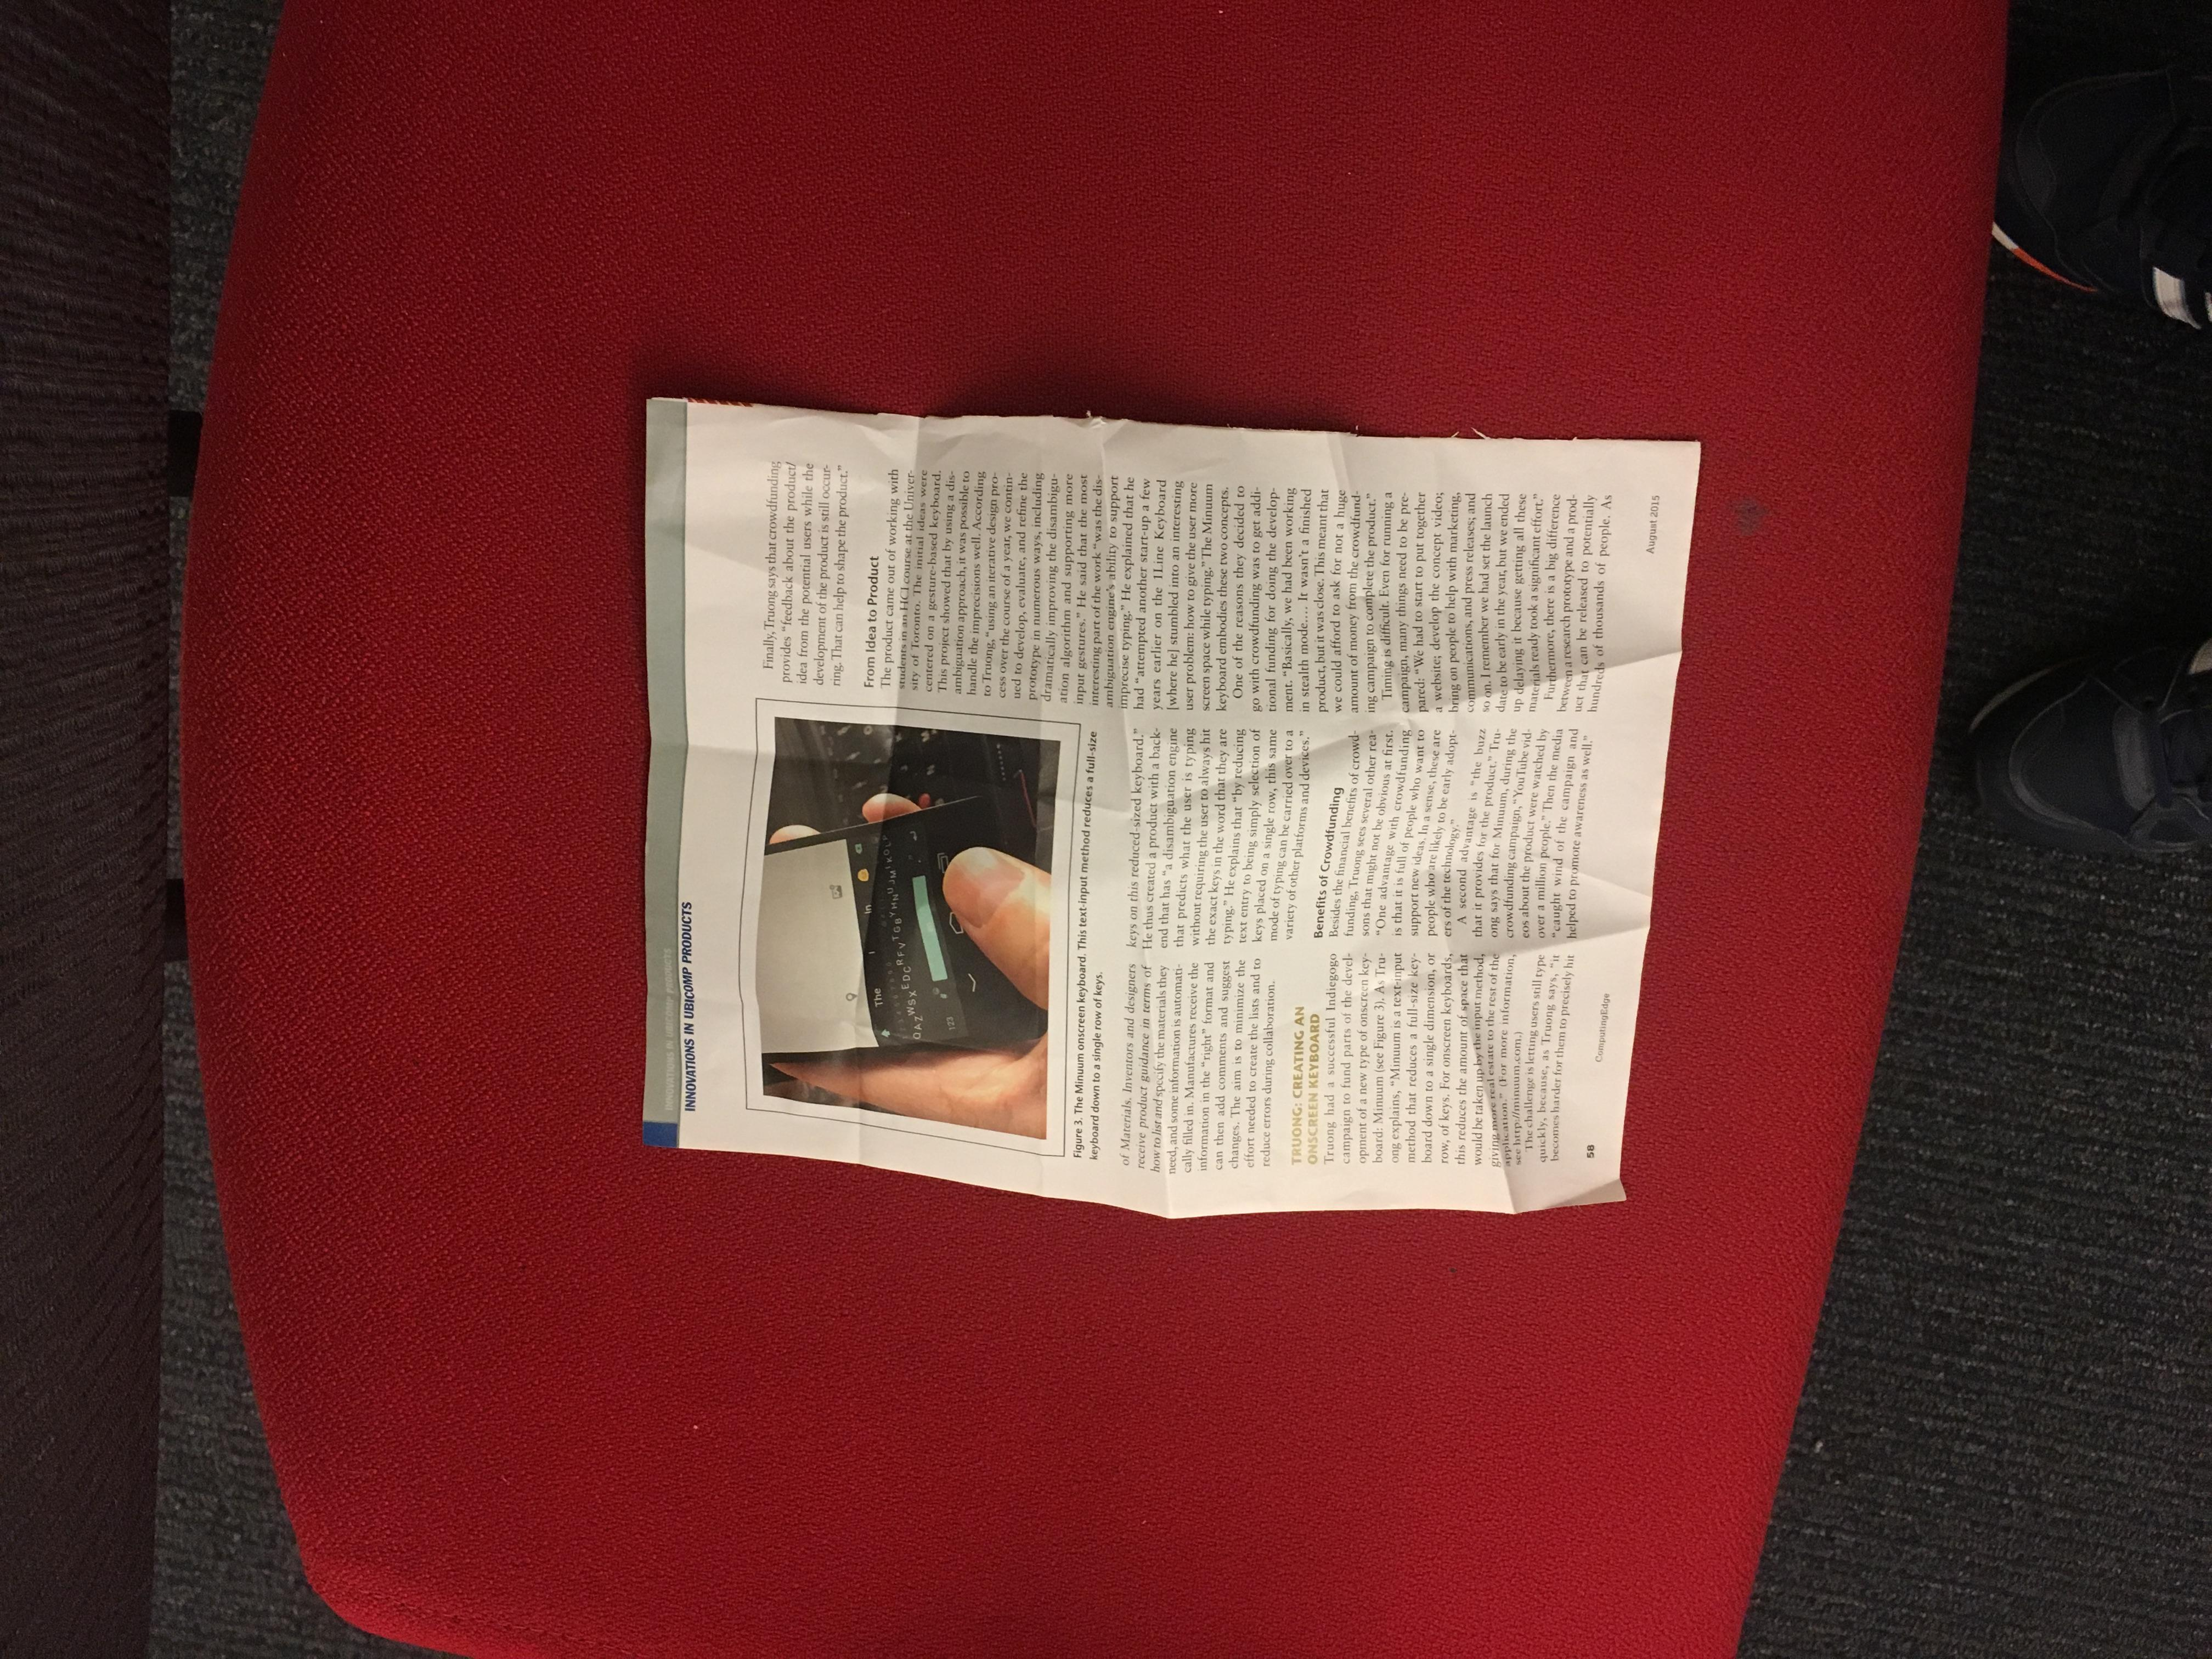paper: (359, 390, 1970, 1361)
